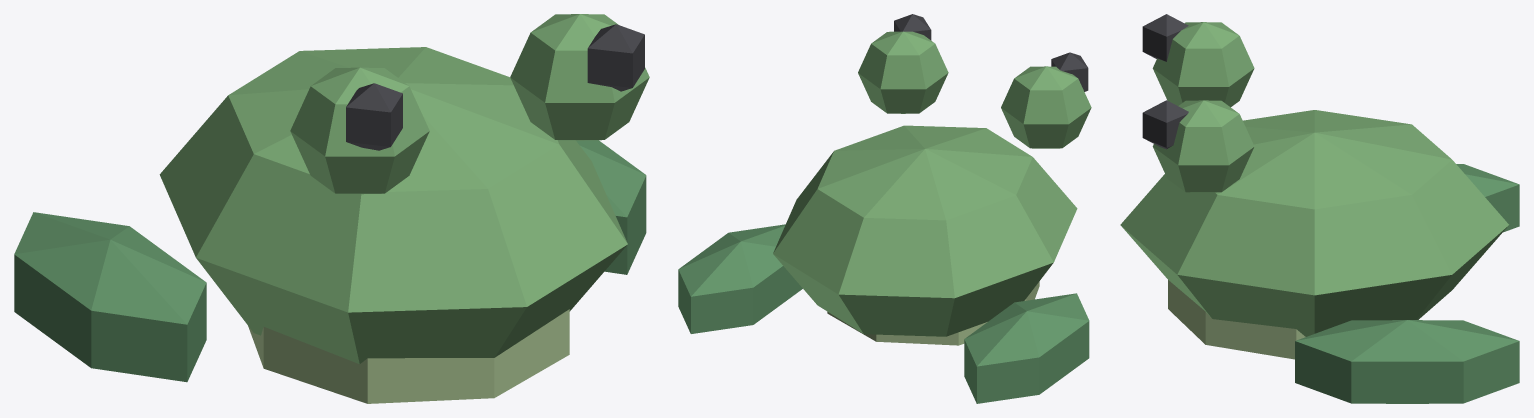
File: frog.glb
3 views of the same model, side by side, from view 1: azimuth 30°, elevation 25°; view 2: azimuth 150°, elevation 25°; view 3: azimuth 270°, elevation 25° (orthographic). The views are drawn at different scales.
Parts seen in each view (by area): view 1: frog; view 2: frog; view 3: frog.
Boxes of the visible parts, left/top/right/bottom form: frog: left=14, top=14, right=649, bottom=403; frog: left=678, top=14, right=1091, bottom=403; frog: left=1120, top=14, right=1519, bottom=403.
Size of the model in its own units: 0.505 by 0.33 by 0.4312.
